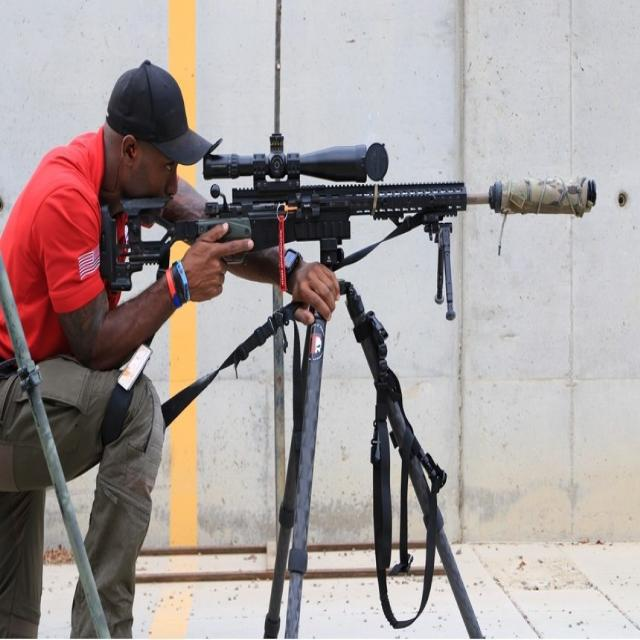Rifle: (97, 143, 598, 292)
